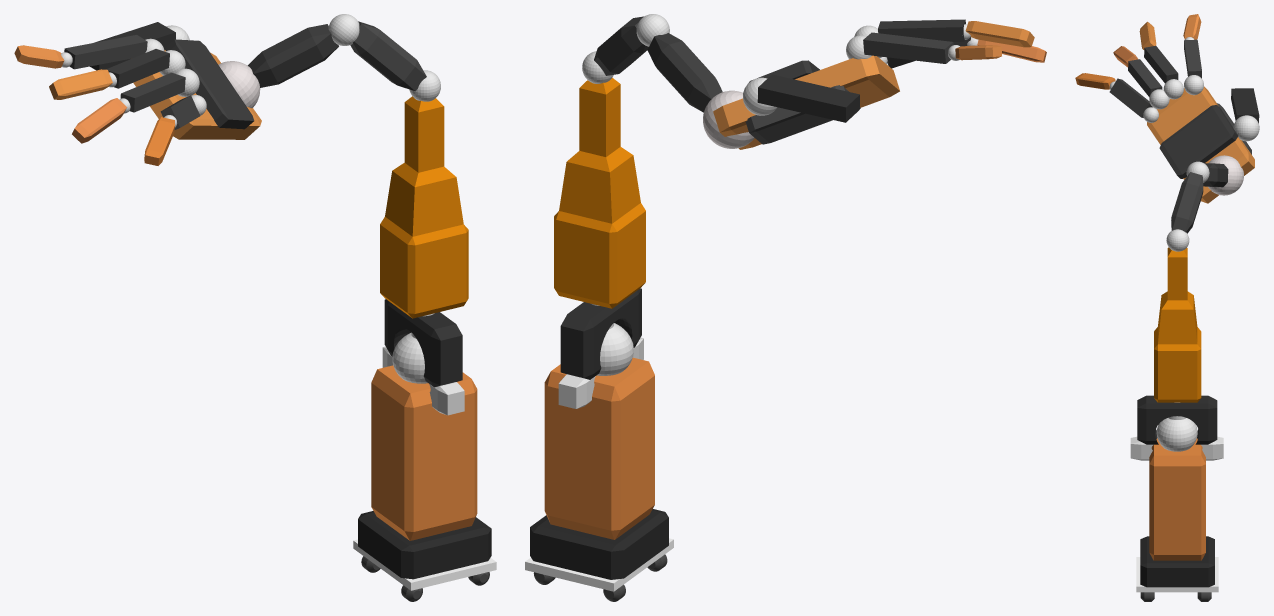
File: BIGHandRobo_size fix.fbx
3 renders of one model, left to right at view 1: azimuth 30°, elevation 25°; view 2: azimuth 150°, elevation 25°; view 3: azimuth 270°, elevation 25°, orthographic. The views are drawn at different scales.
Visible parts, largest first — view 1: Cube.002, Cube.005, Cube.001, Cube.003, Cube.019, Cube.008, Cube.006, Cube.007, Cube.010, Cube, Cube.013, Cube.011 (+11 smaller); view 2: Cube.002, Cube.005, Cube.001, Cube.003, Cube.007, Cube.009, Cube.008, Cube.010, Cube.018, Cube.006, Cube.011, Cube (+7 smaller); view 3: Cube.002, Cube.005, Cube.019, Cube.003, Cube.007, Cube.001, Cube.006, Sphere, Cube.004, Cube, Sphere.003, Cube.012 (+16 smaller).
Part boxes in pixels (bbox=[...]): Cube.002: bbox=[371, 365, 477, 540]; Cube.005: bbox=[380, 96, 468, 318]; Cube.001: bbox=[358, 511, 491, 579]; Cube.003: bbox=[384, 299, 462, 387]; Cube.019: bbox=[165, 39, 254, 129]; Cube.008: bbox=[247, 24, 338, 87]; Cube.006: bbox=[350, 21, 426, 91]; Cube.007: bbox=[133, 50, 261, 139]; Cube.010: bbox=[64, 35, 147, 69]; Cube: bbox=[353, 539, 496, 590]; Cube.013: bbox=[120, 72, 185, 112]; Cube.011: bbox=[106, 49, 169, 88]; Cube.002: bbox=[544, 357, 654, 539]; Cube.005: bbox=[554, 78, 645, 308]; Cube.001: bbox=[530, 509, 668, 579]; Cube.003: bbox=[560, 288, 641, 379]; Cube.007: bbox=[713, 55, 899, 149]; Cube.009: bbox=[757, 74, 859, 122]; Cube.008: bbox=[647, 33, 722, 112]; Cube.010: bbox=[863, 32, 953, 63]; Cube.018: bbox=[745, 85, 860, 144]; Cube.006: bbox=[594, 16, 648, 75]; Cube.011: bbox=[878, 19, 965, 41]; Cube: bbox=[525, 538, 673, 591]; Cube.002: bbox=[1149, 438, 1205, 560]; Cube.005: bbox=[1154, 247, 1201, 402]; Cube.019: bbox=[1159, 105, 1238, 178]; Cube.003: bbox=[1137, 395, 1217, 444]; Cube.007: bbox=[1147, 86, 1254, 203]; Cube.001: bbox=[1140, 536, 1214, 587]; Cube.006: bbox=[1171, 172, 1203, 233]; Sphere: bbox=[1156, 418, 1197, 451]; Cube.004: bbox=[1130, 436, 1223, 460]; Cube: bbox=[1136, 557, 1218, 592]; Sphere.003: bbox=[1208, 155, 1243, 195]; Cube.012: bbox=[1109, 78, 1152, 117].
Bounding box in the file's own units: 182 × 242 × 91.93.
